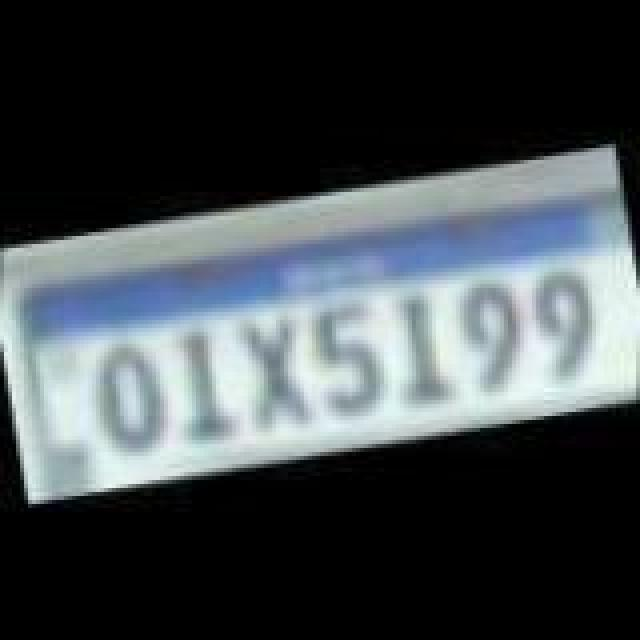5: (310, 300, 394, 424)
9: (452, 272, 540, 404), (520, 262, 608, 394)
I: (152, 322, 236, 446), (384, 280, 464, 408)
O: (82, 332, 178, 460)
X: (228, 306, 324, 434)
